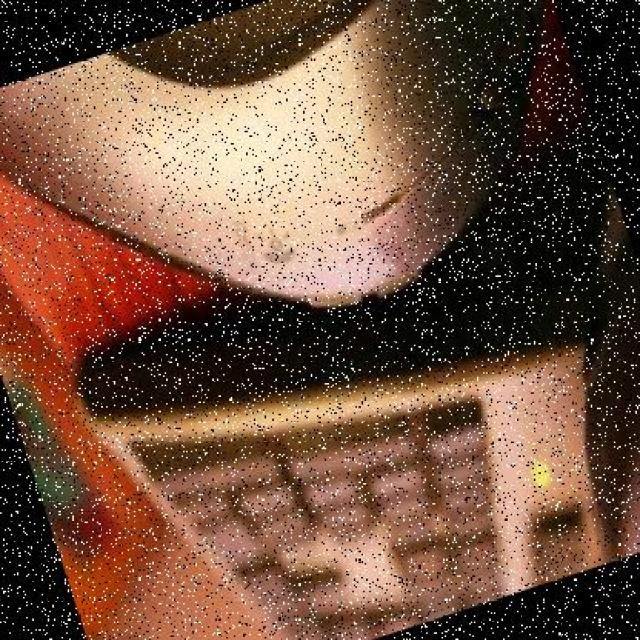mause: (0, 0, 634, 452)
